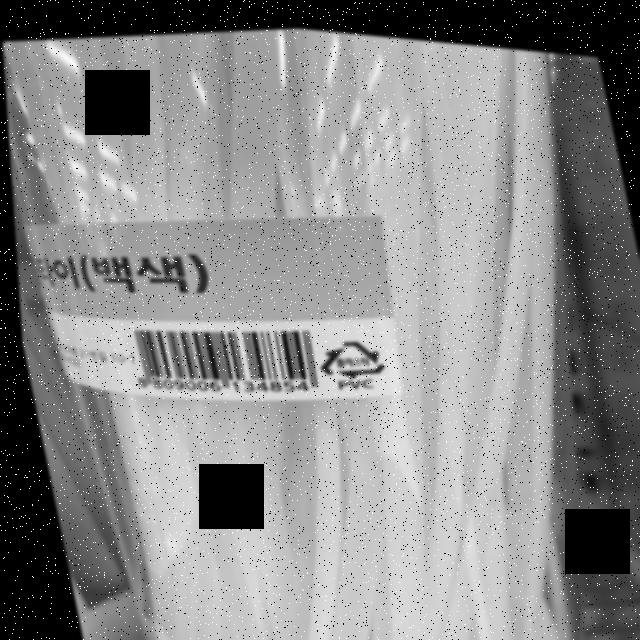Plastic: (311, 324, 387, 379)
